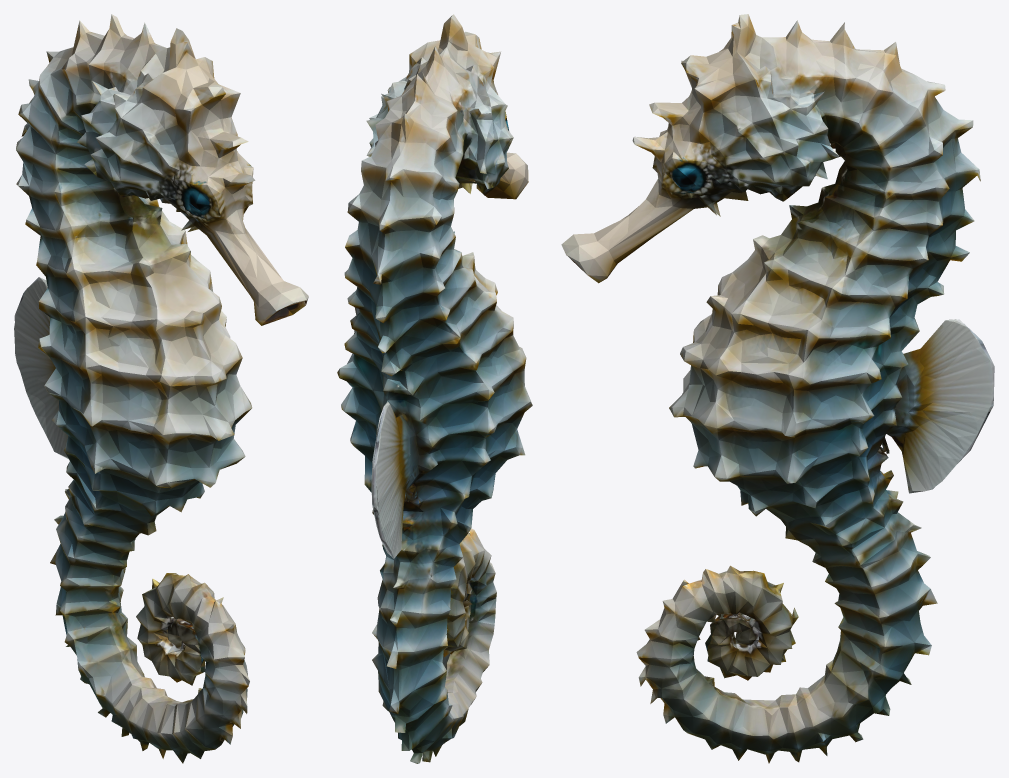
The model's file is seahorse_texture.obj.
The picture shows the model from 3 angles, left to right: view 1: azimuth 30°, elevation 25°; view 2: azimuth 150°, elevation 25°; view 3: azimuth 270°, elevation 25°; orthographic projection. The views are drawn at different scales.
Visible parts, largest first — view 1: seahorse_texture; view 2: seahorse_texture; view 3: seahorse_texture.
Boxes of the visible parts, x1,y1,x2,y2 form: seahorse_texture: (14,14,308,763); seahorse_texture: (337,14,532,763); seahorse_texture: (561,14,994,763).
Bounding box in the file's own units: 0.2375 × 1 × 0.5215.
Materials: 1 (1 with a texture image).
